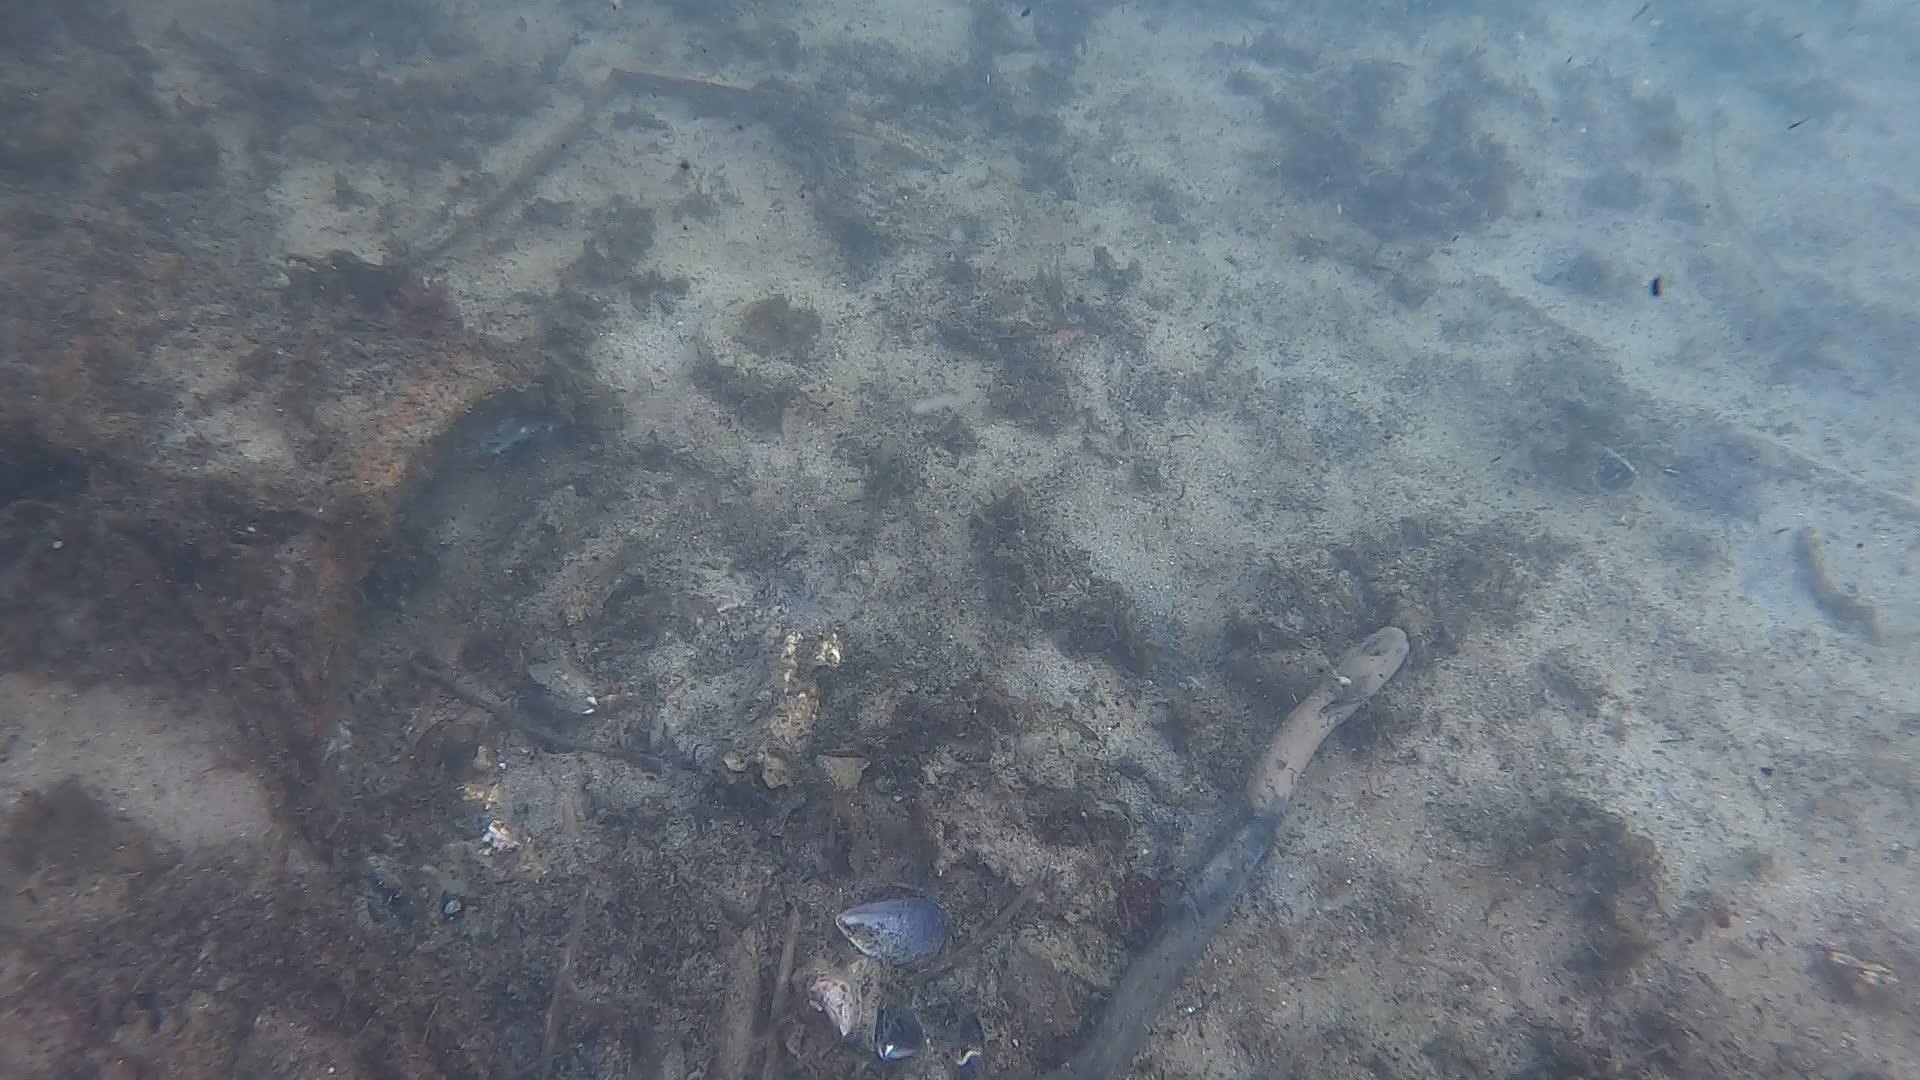wood: (1031, 622, 1408, 1080)
